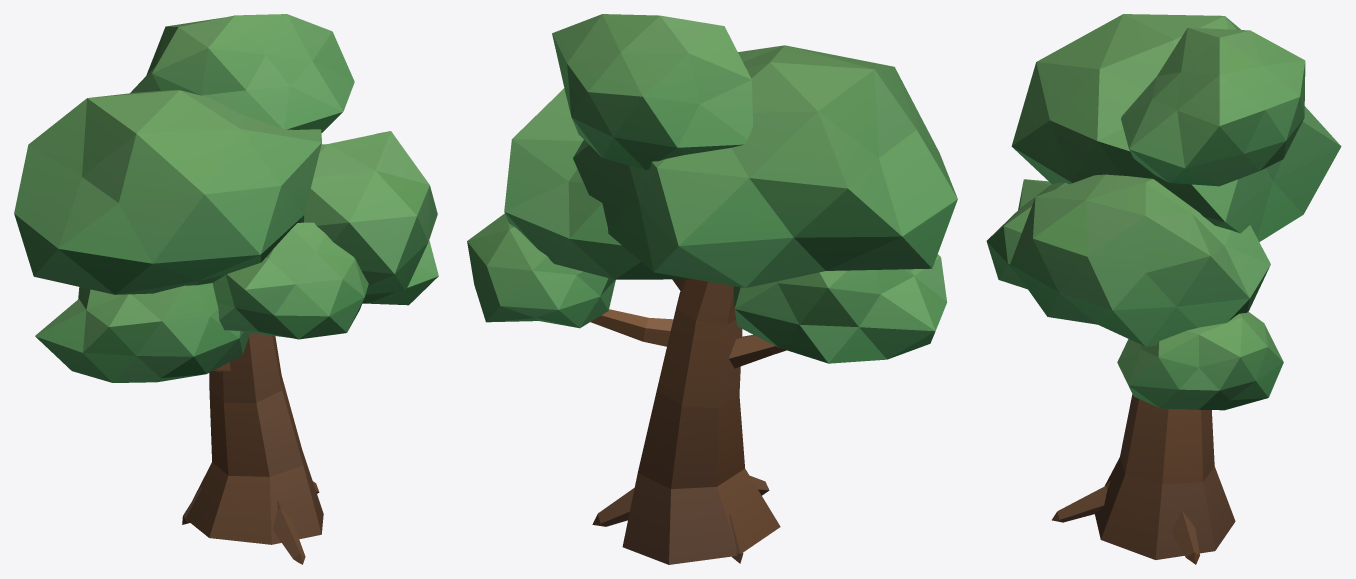
File: world_tree_broad_v3.fbx
3 renders of one model, left to right at view 1: azimuth 30°, elevation 25°; view 2: azimuth 150°, elevation 25°; view 3: azimuth 270°, elevation 25°, orthographic. The views are drawn at different scales.
Parts seen in each view (by area): view 1: world_tree_broad_v3; view 2: world_tree_broad_v3; view 3: world_tree_broad_v3.
Part boxes in pixels (bbox=[...]): world_tree_broad_v3: bbox=[14, 14, 438, 564]; world_tree_broad_v3: bbox=[467, 14, 957, 564]; world_tree_broad_v3: bbox=[986, 14, 1341, 564].
Bounding box in the file's own units: 1123 × 1335 × 867.
